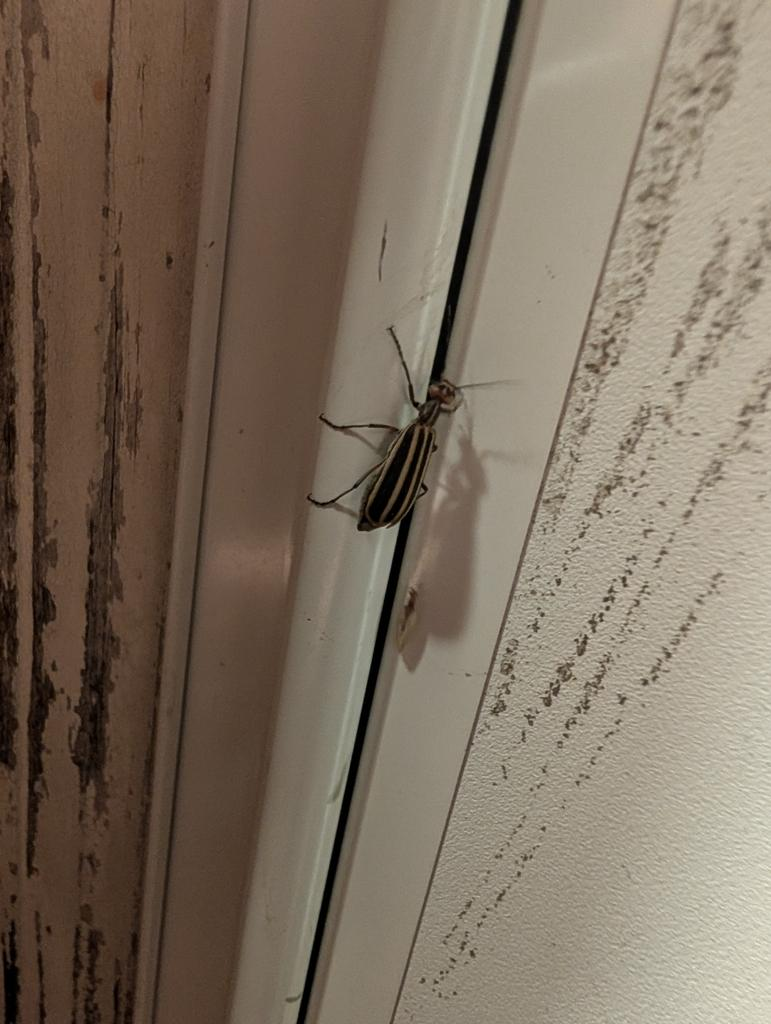blister_beetle: (295, 280, 522, 594)
